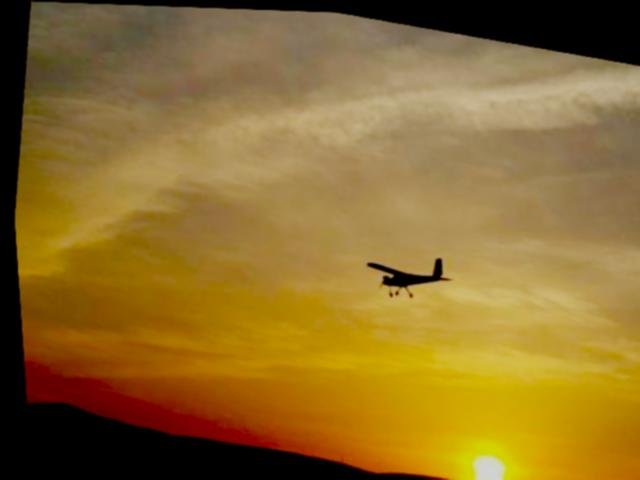uav: (356, 243, 457, 306)
